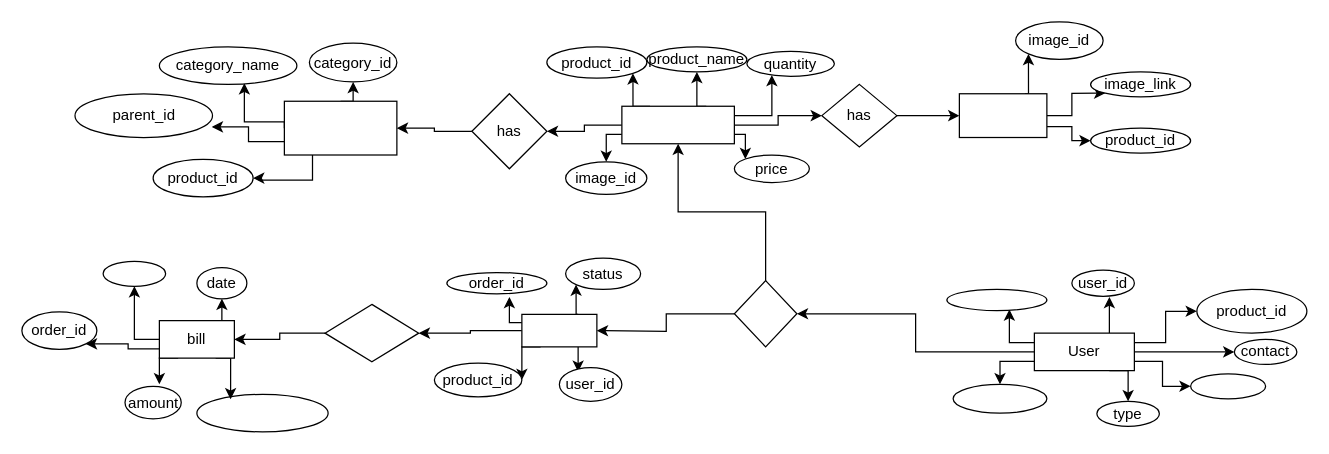
Image size: 1329x454. Some labels were removed from this diagram. The shapes that lost their labels are listed below. From the top down, each one's box as (x1, y1, x2, y2) in pixels, then its label:
(283, 100, 397, 155): categories
(621, 105, 734, 144): Products
(958, 92, 1047, 138): images
(102, 260, 166, 286): bill_id
(733, 279, 797, 347): keeps
(946, 288, 1047, 311): user_name
(324, 303, 419, 362): generates
(521, 313, 597, 347): orders
(952, 383, 1047, 413): addresses
(1189, 372, 1266, 399): email
(196, 393, 328, 432): shipping_address
